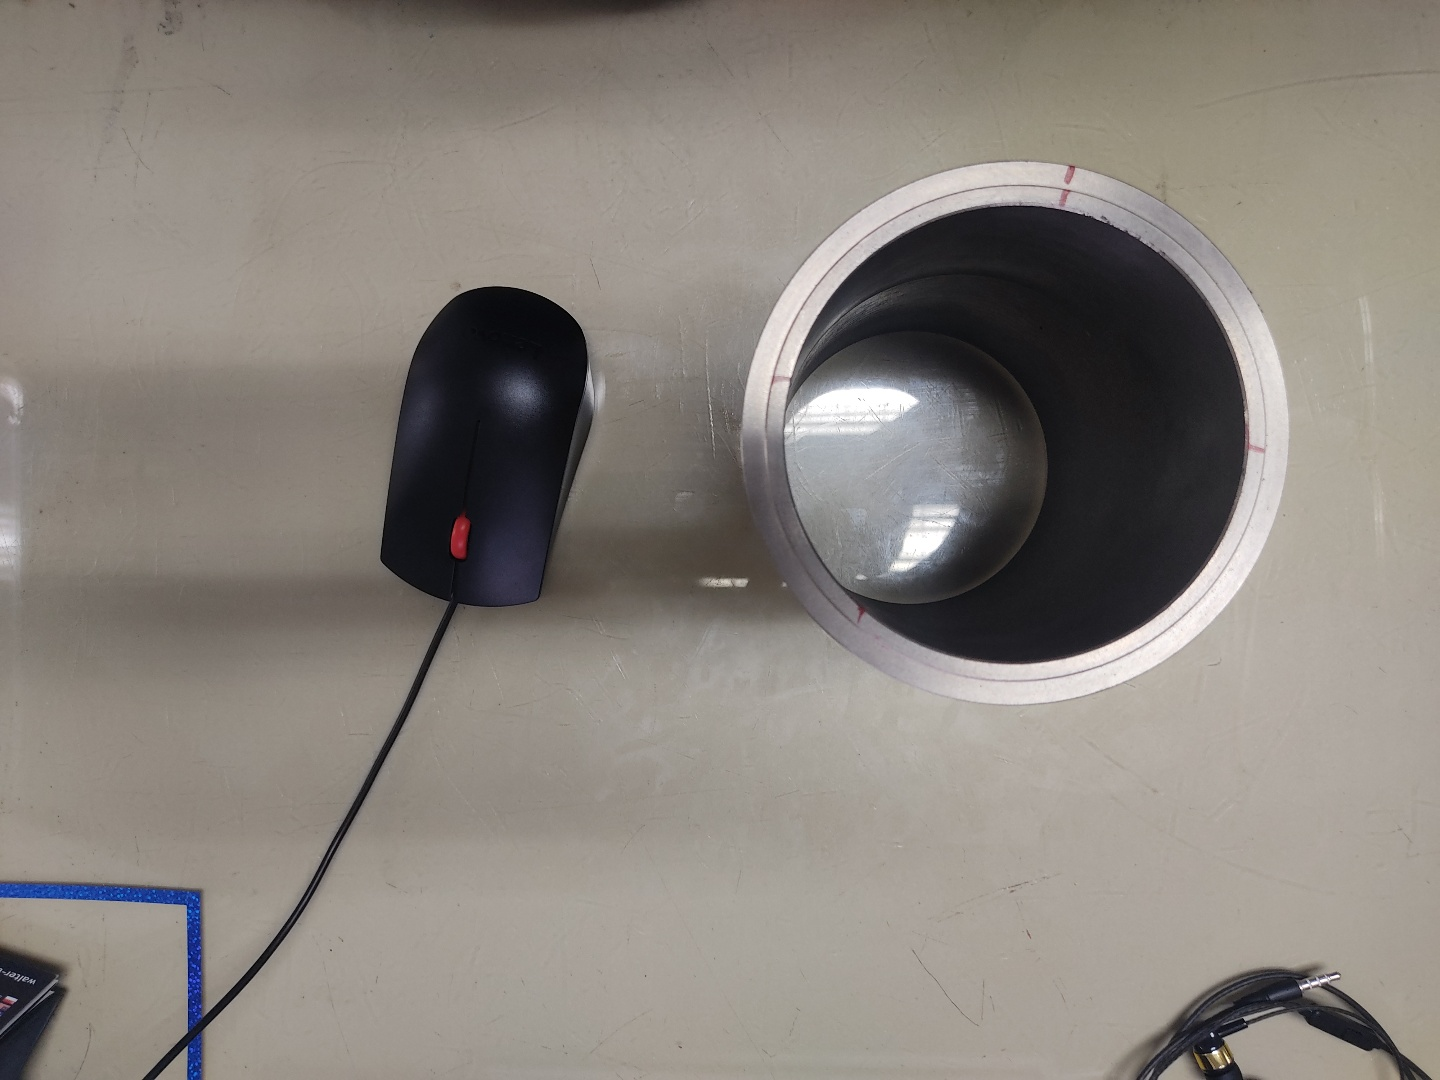cylinder: (732, 154, 1297, 714)
